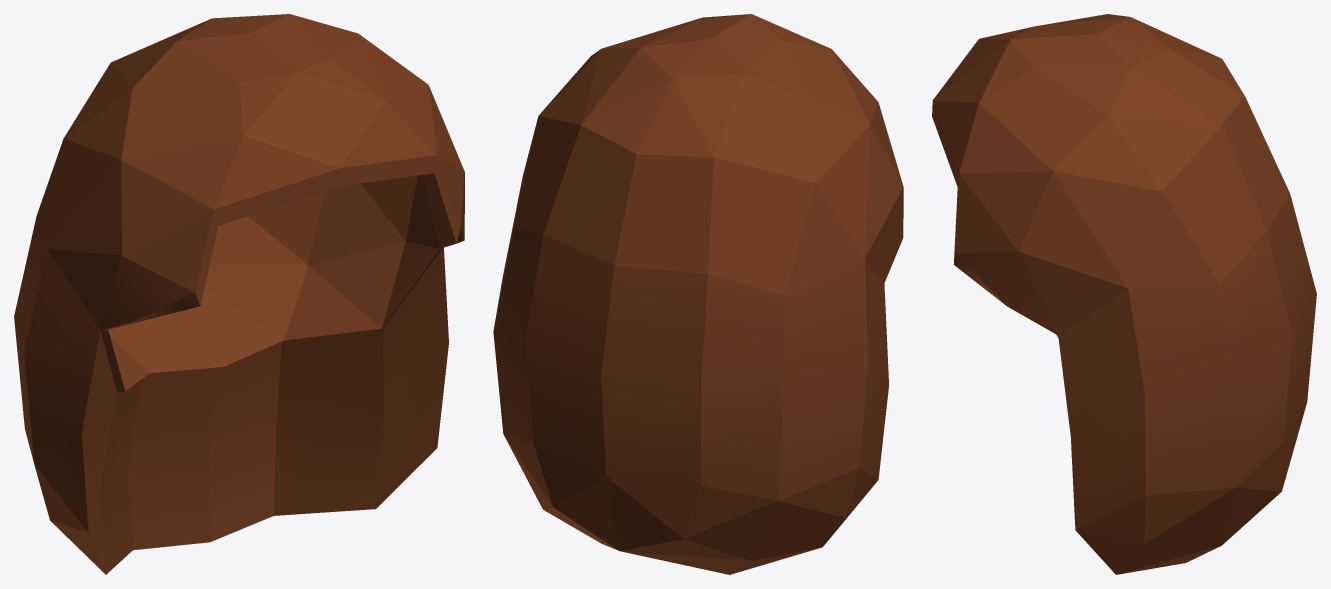
Rendered from HairCut8.fbx.
3 renders of one model, left to right at view 1: azimuth 30°, elevation 25°; view 2: azimuth 150°, elevation 25°; view 3: azimuth 270°, elevation 25°, orthographic. The views are drawn at different scales.
Visible parts, largest first — view 1: characterBase.002; view 2: characterBase.002; view 3: characterBase.002.
Boxes of the visible parts, x1=… form: characterBase.002: x1=14, y1=14, x2=464, y2=574; characterBase.002: x1=493, y1=14, x2=903, y2=574; characterBase.002: x1=932, y1=14, x2=1316, y2=574.
Size of the model in its own units: 67.37 by 86.58 by 60.28.
